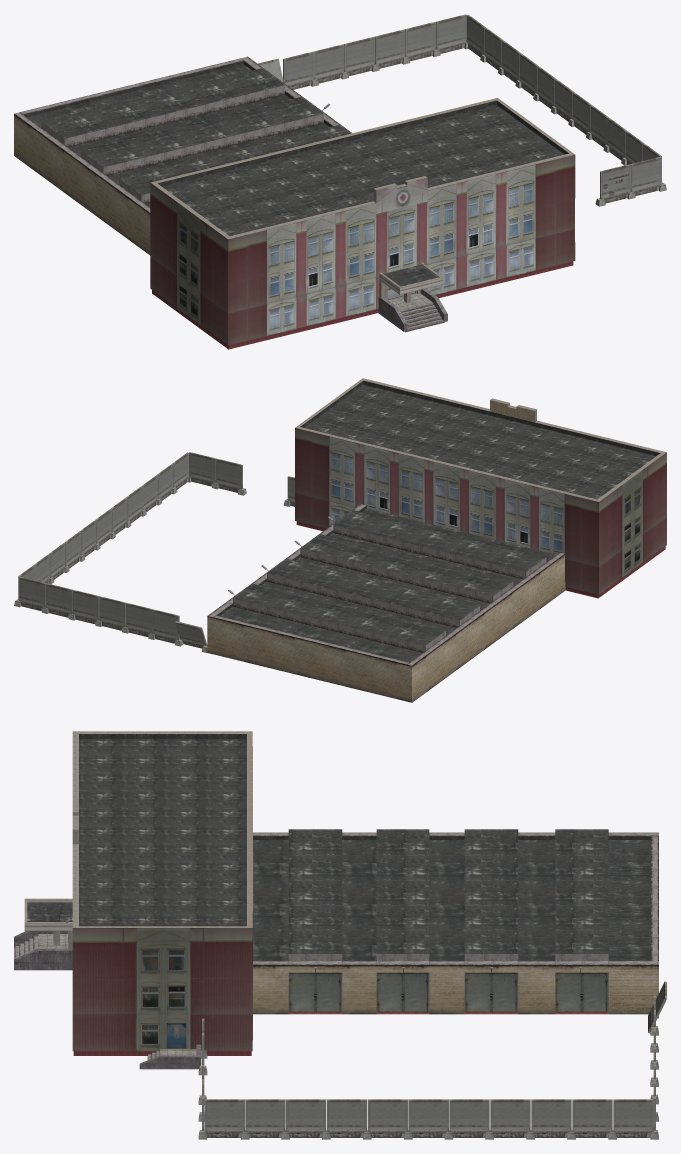
Rendered from prlClinic.glb.
The picture shows the model from 3 angles, top to bottom: view 1: azimuth 30°, elevation 25°; view 2: azimuth 150°, elevation 25°; view 3: azimuth 270°, elevation 25°; orthographic projection. The views are drawn at different scales.
Parts seen in each view (by area): view 1: None_medicsubsta_roof.png, None_medicsubsta_frontwall.png, None_medicsubsta_profwall.png, None_medicsubsta_zaborclear.png, None_medicsubsta_creteborder.png, None_medicsubsta_krest.png, None_medicsubsta_grgewall.png, None_medicsubsta_cretewalls.png, None_medicsubsta_fundament.png, None_medicsubsta_zaborpainted.png, None_medicsubsta_stonewall.png, None_medicsubsta_podezdupper.png; view 2: None_medicsubsta_roof.png, None_medicsubsta_frontwall.png, None_medicsubsta_grgewall.png, None_medicsubsta_profwall.png, None_medicsubsta_zaborclear.png, None_medicsubsta_creteborder.png, None_medicsubsta_cretewalls.png, None_medicsubsta_fundament.png, None_medicsubsta_wall2.png; view 3: None_medicsubsta_roof.png, None_medicsubsta_profwall.png, None_medicsubsta_zaborclear.png, None_medicsubsta_grgewall.png, None_medicsubsta_vorota.png, None_medicsubsta_creteborder.png, None_medicsubsta_cretewalls.png, None_medicsubsta_stonewall.png, None_medicsubsta_fundamentt2.png, None_medicsubsta_cretetails.png, None_medicsubsta_fundament.png.
Boxes of the visible parts, x1,y1,x2,y2 form: None_medicsubsta_roof.png: [24, 61, 568, 286]; None_medicsubsta_frontwall.png: [267, 164, 535, 328]; None_medicsubsta_profwall.png: [150, 155, 575, 345]; None_medicsubsta_zaborclear.png: [258, 14, 666, 206]; None_medicsubsta_creteborder.png: [14, 56, 444, 332]; None_medicsubsta_krest.png: [267, 178, 535, 335]; None_medicsubsta_grgewall.png: [14, 114, 150, 255]; None_medicsubsta_cretewalls.png: [150, 98, 574, 302]; None_medicsubsta_fundament.png: [152, 261, 573, 349]; None_medicsubsta_zaborpainted.png: [600, 164, 630, 203]; None_medicsubsta_stonewall.png: [378, 288, 447, 331]; None_medicsubsta_podezdupper.png: [379, 263, 442, 294]; None_medicsubsta_roof.png: [217, 380, 660, 662]; None_medicsubsta_frontwall.png: [329, 436, 564, 554]; None_medicsubsta_grgewall.png: [207, 554, 565, 702]; None_medicsubsta_profwall.png: [295, 428, 666, 594]; None_medicsubsta_zaborclear.png: [14, 452, 294, 652]; None_medicsubsta_creteborder.png: [208, 504, 564, 665]; None_medicsubsta_cretewalls.png: [295, 378, 666, 501]; None_medicsubsta_fundament.png: [296, 521, 665, 598]; None_medicsubsta_wall2.png: [490, 400, 534, 422]; None_medicsubsta_roof.png: [27, 734, 650, 960]; None_medicsubsta_profwall.png: [72, 912, 252, 1051]; None_medicsubsta_zaborclear.png: [198, 981, 666, 1139]; None_medicsubsta_grgewall.png: [253, 965, 658, 1014]; None_medicsubsta_vorota.png: [288, 972, 608, 1012]; None_medicsubsta_creteborder.png: [14, 832, 658, 1059]; None_medicsubsta_cretewalls.png: [24, 731, 252, 950]; None_medicsubsta_stonewall.png: [14, 931, 201, 1069]; None_medicsubsta_fundamentt2.png: [288, 968, 608, 1014]; None_medicsubsta_cretetails.png: [38, 934, 196, 1055]; None_medicsubsta_fundament.png: [73, 1051, 251, 1055].
Bounding box in the file's own units: 52.85 × 12.75 × 52.19.
20 materials, 20 textured.
